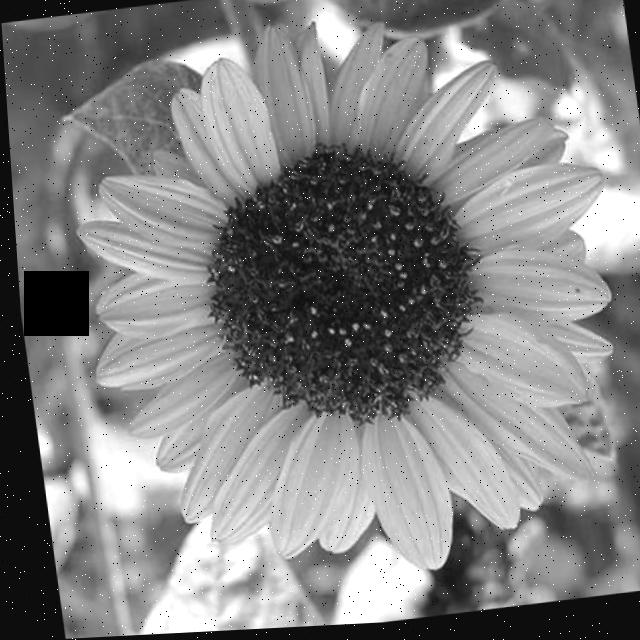sunflower: (62, 0, 640, 638)
